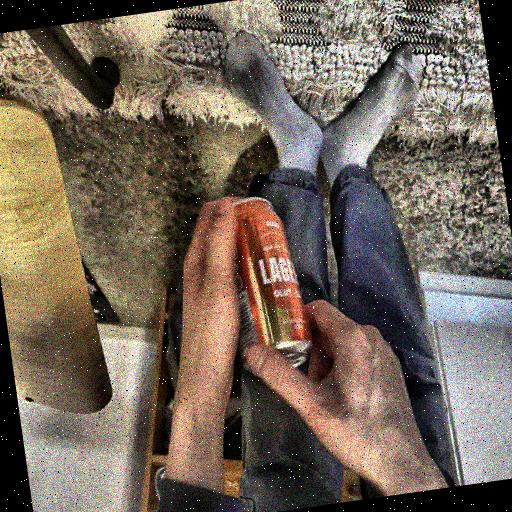coop_larger: (211, 184, 321, 379)
